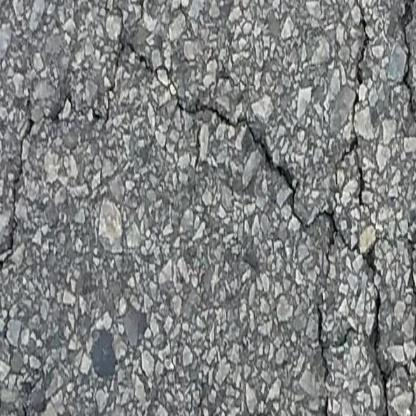Cracks: (173, 96, 397, 416), (0, 39, 161, 304), (331, 0, 374, 212), (398, 0, 416, 362)
